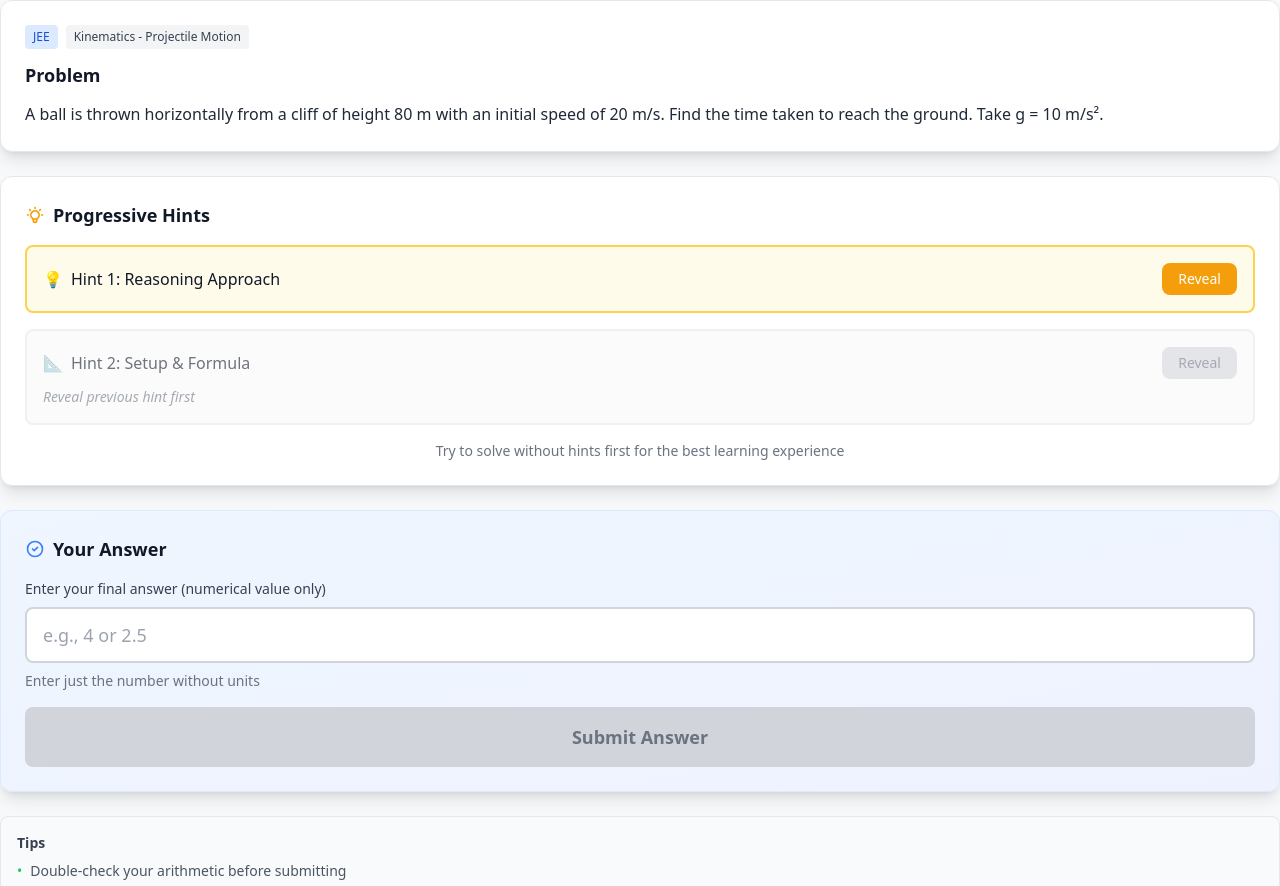
Test: DemoSolvePhase › Hint Revealing › reveals first hint when Reveal is clicked
Click the button "Reveal" in the row of "Hint 1: Reasoning Approach".
click(1200, 279)  # box [1162, 263, 1237, 295]
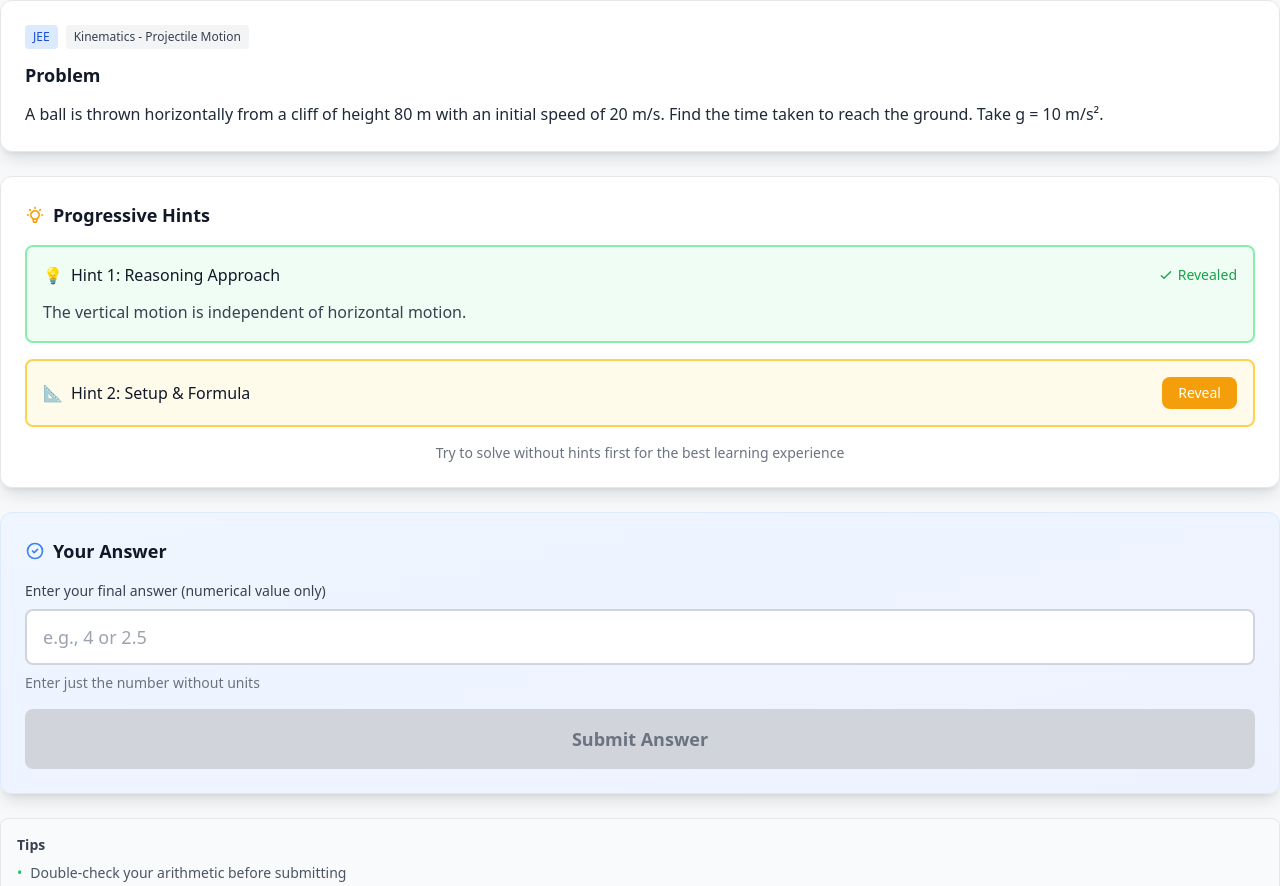
expect the text "The vertical motion is independent of horizontal motion." is shown: met, box [43, 301, 466, 323]
